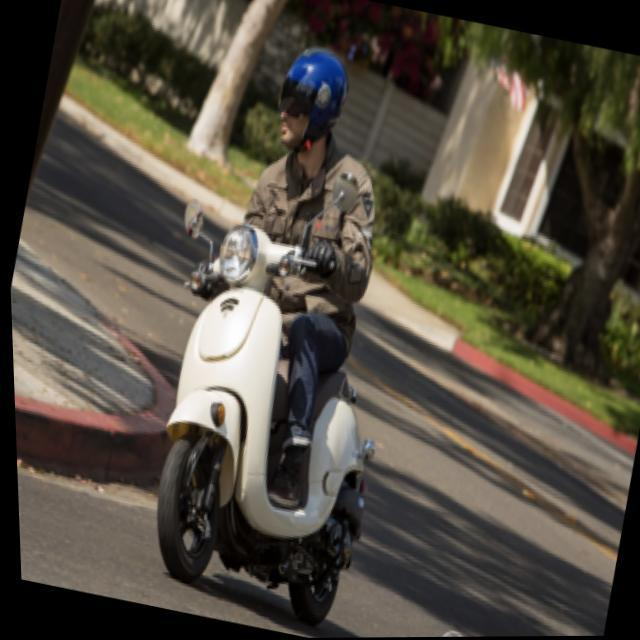Helmet: (277, 39, 346, 151)
